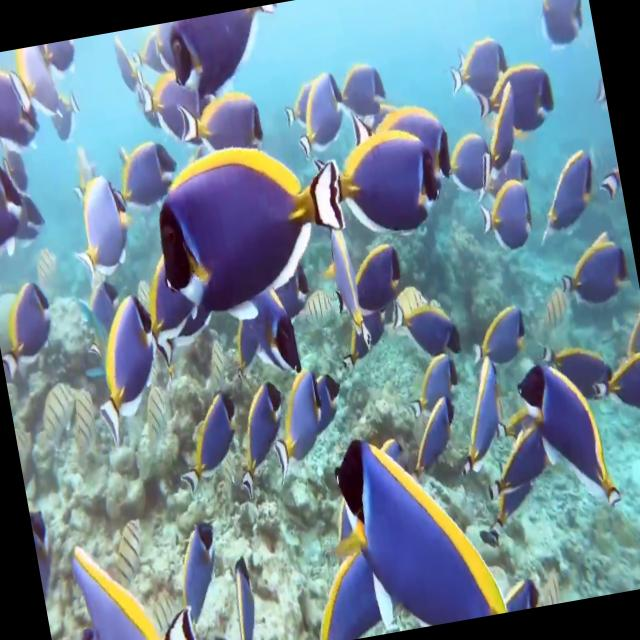fish: (143, 125, 360, 334), (333, 419, 514, 636), (80, 286, 174, 447), (322, 118, 444, 242), (516, 354, 614, 500), (72, 538, 201, 640), (160, 7, 269, 98), (219, 383, 298, 504), (158, 515, 230, 640), (59, 172, 140, 282), (259, 368, 335, 483), (170, 382, 250, 489), (522, 147, 608, 245), (173, 82, 269, 166), (386, 292, 474, 371), (400, 389, 474, 482), (0, 284, 61, 394), (551, 232, 632, 314), (468, 66, 557, 136), (458, 300, 540, 372), (288, 74, 355, 156), (477, 172, 538, 256), (446, 33, 512, 110), (0, 126, 39, 252), (0, 47, 42, 149), (225, 550, 269, 640), (534, 0, 590, 48)
